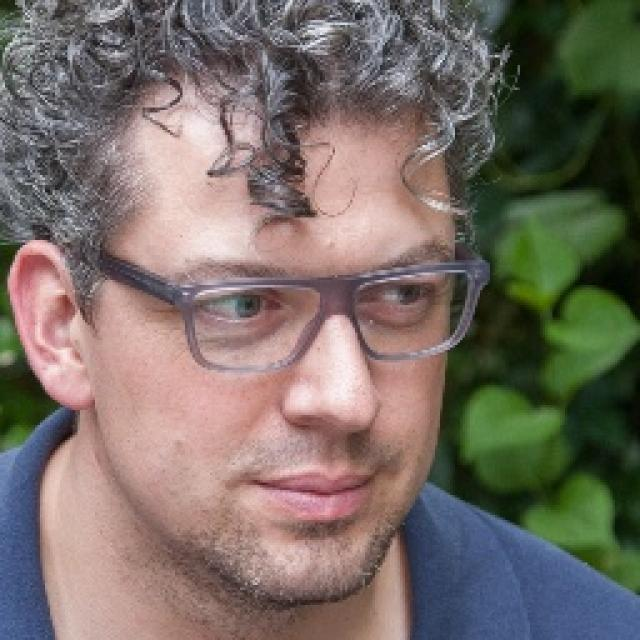earlobe: (6, 239, 96, 413)
